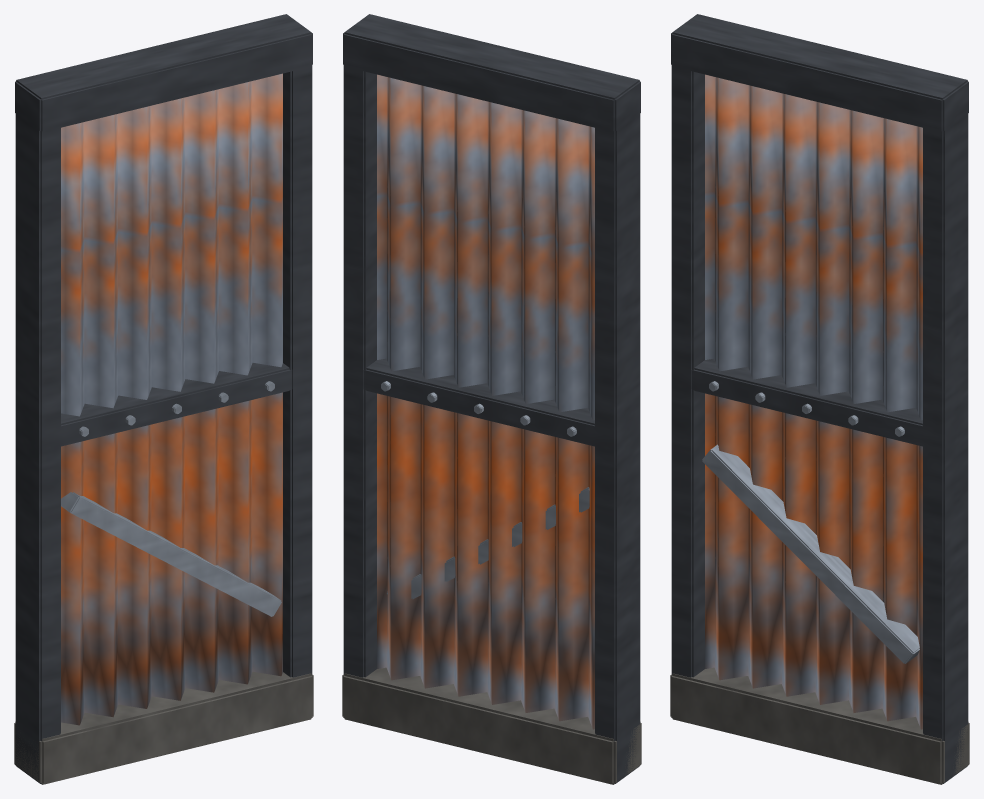
Rendered from wall_corrugated.glb.
3 views of the same model, side by side, from view 1: azimuth 30°, elevation 25°; view 2: azimuth 150°, elevation 25°; view 3: azimuth 330°, elevation 25° (orthographic).
Parts seen in each view (by area): view 1: wall_corrugated; view 2: wall_corrugated; view 3: wall_corrugated.
Boxes of the visible parts, left/top/right/bottom form: wall_corrugated: left=14, top=14, right=313, bottom=784; wall_corrugated: left=342, top=14, right=641, bottom=784; wall_corrugated: left=670, top=14, right=969, bottom=784.
Size of the model in its own units: 1 by 2.4 by 0.185.
4 materials, 4 textured.
